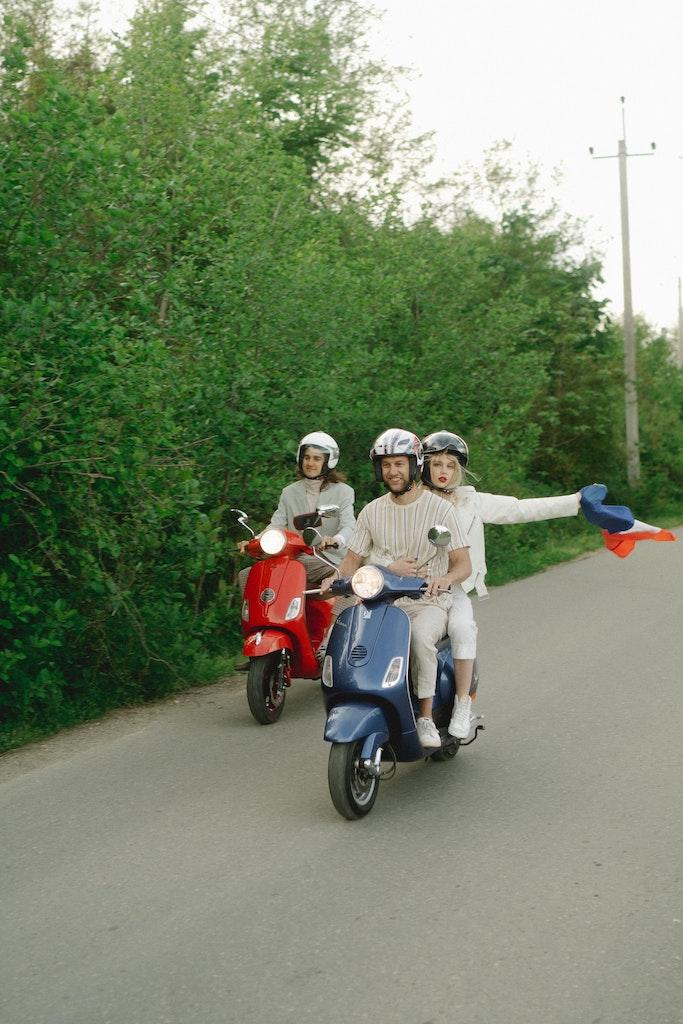helmet: (368, 426, 425, 499), (413, 428, 470, 495), (295, 429, 341, 481)
